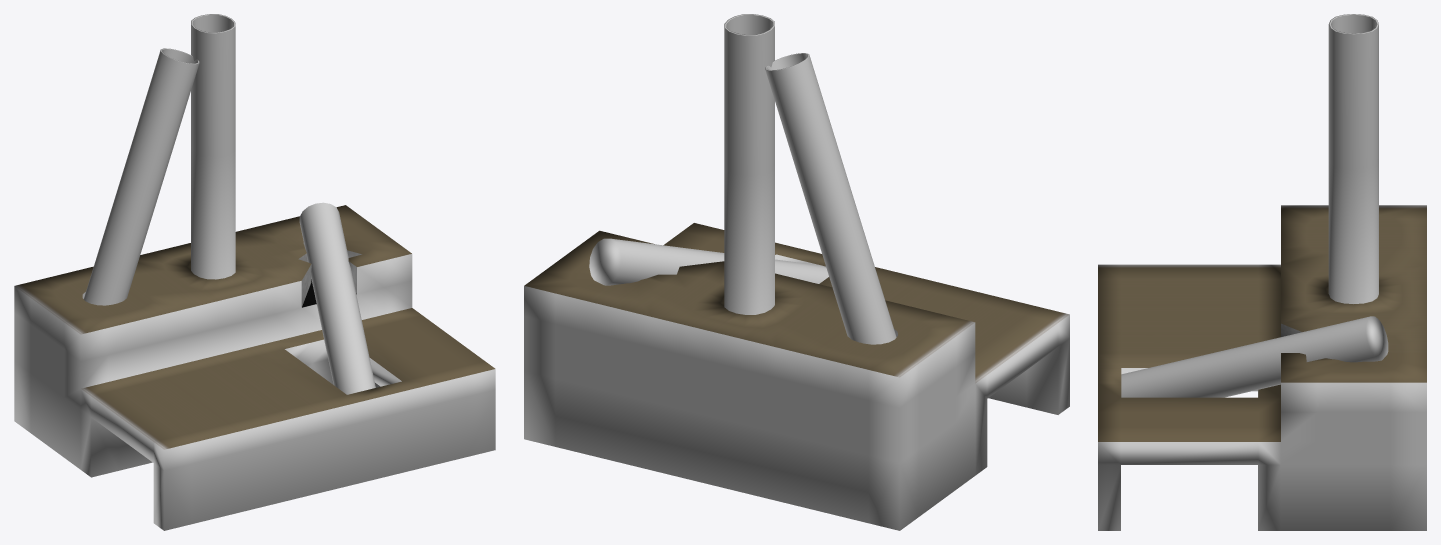
File: Factory1_Destroyed.fbx
The picture shows the model from 3 angles, left to right: view 1: azimuth 30°, elevation 25°; view 2: azimuth 150°, elevation 25°; view 3: azimuth 270°, elevation 25°; orthographic projection. The views are drawn at different scales.
Visible parts, largest first — view 1: Chimney2; view 2: Chimney2; view 3: Chimney2.
Part boxes in pixels (x1,y1,x2,y2): Chimney2: [14, 14, 495, 530]; Chimney2: [524, 14, 1069, 530]; Chimney2: [1098, 14, 1426, 530].
Bounding box in the file's own units: 13.55 × 14.9 × 10.61.
